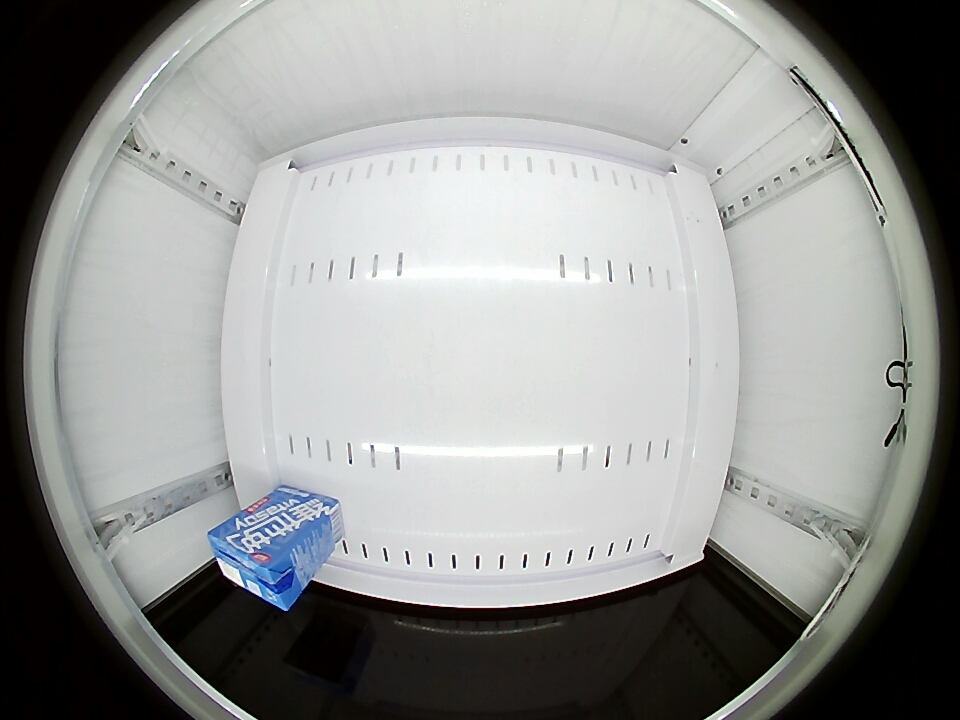weitanai: (207, 516, 309, 611)
